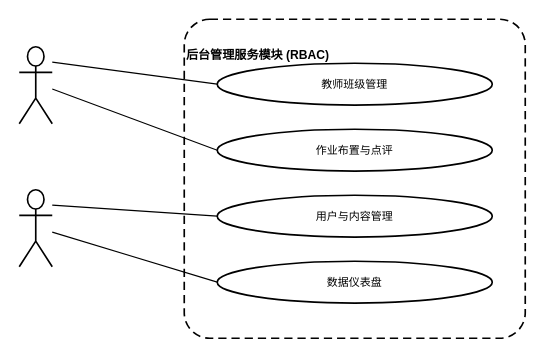
Some shapes in this 546 by 359 pixel diagram are drawn without their labels. The shapes that lost their labels are listed below. From the top down, each one's box as (x1, y1, x2, y2) in pixels, then its label:
(18, 45, 53, 124): 教师
(18, 188, 53, 267): 运营
